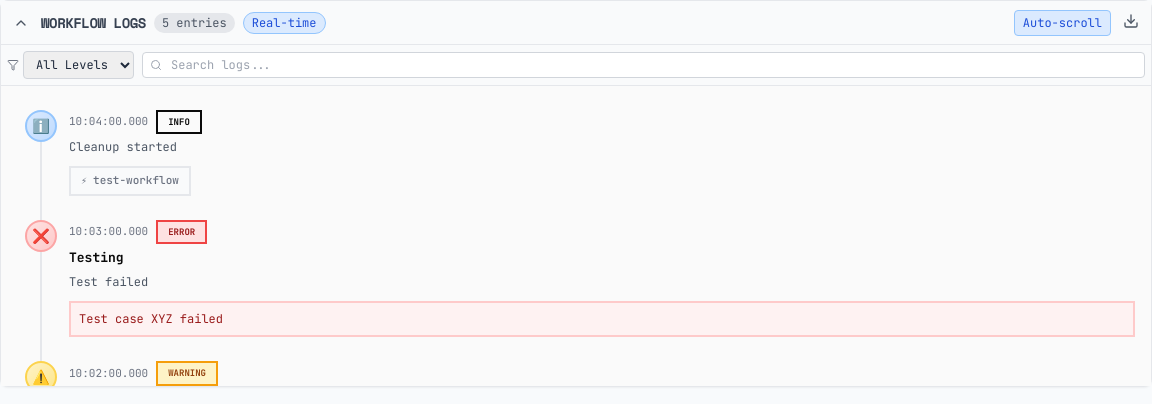
WorkflowLogViewer Component › Filtering › should show all logs when filter is set to "all"
The width and height of the screenshot is (1152, 404).
Select "Error" in the dropdown at x=78, y=65, box x1=23 y1=51 x2=134 y2=79
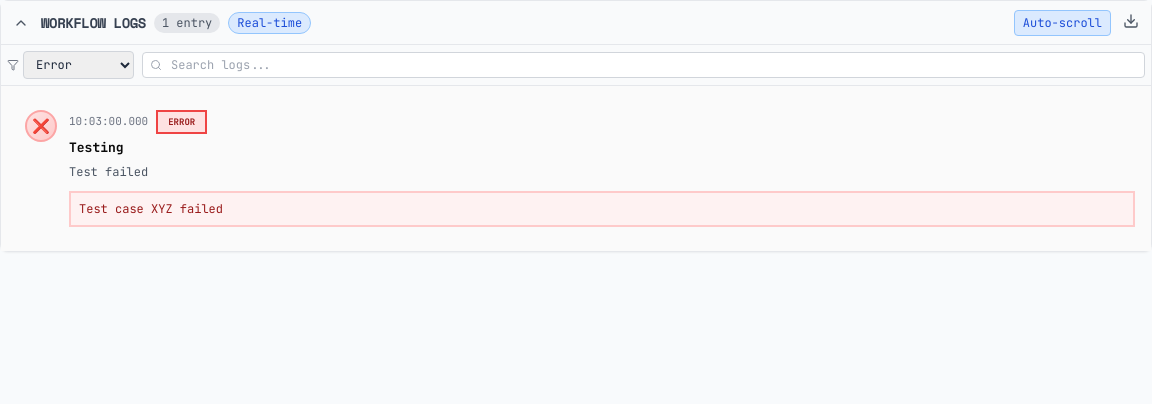
Select "All Levels" in the dropdown at x=78, y=65, box x1=23 y1=51 x2=134 y2=79
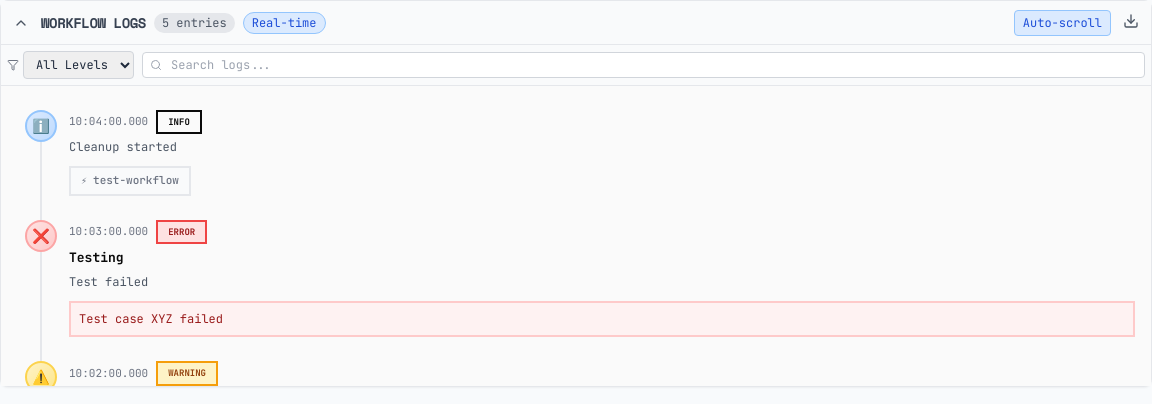
Expected: the text "5 entries" is shown, x1=154 y1=12 x2=235 y2=32
